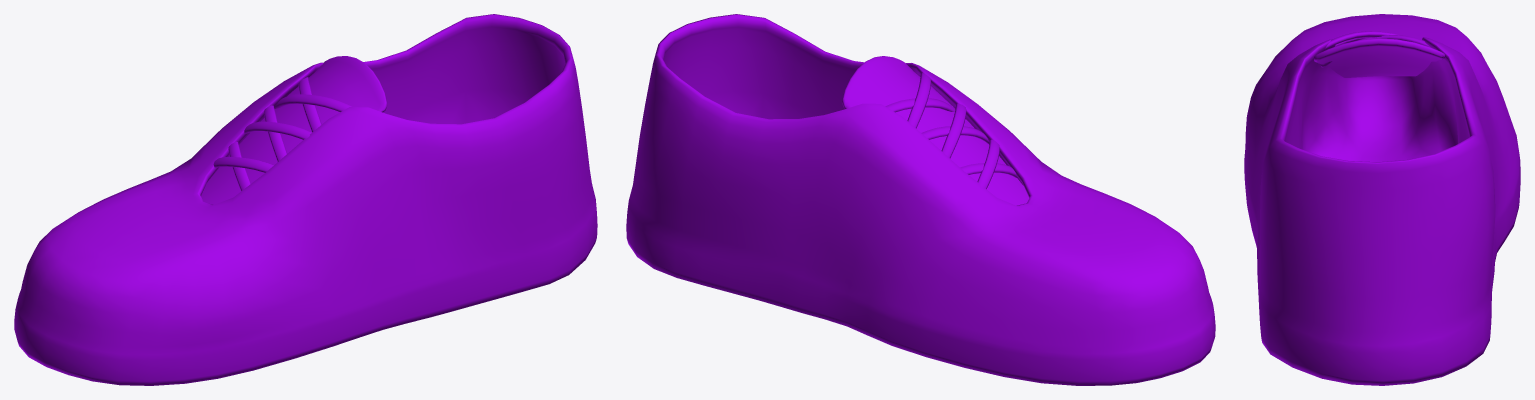
File: Shoes_Left.fbx
3 views of the same model, side by side, from view 1: azimuth 30°, elevation 25°; view 2: azimuth 150°, elevation 25°; view 3: azimuth 270°, elevation 25° (orthographic). The views are drawn at different scales.
Parts seen in each view (by area): view 1: Shoes_Left; view 2: Shoes_Left; view 3: Shoes_Left.
Part boxes in pixels (x1,y1,x2,y2): Shoes_Left: (14, 14, 597, 385); Shoes_Left: (626, 14, 1215, 385); Shoes_Left: (1244, 14, 1520, 385).
Bounding box in the file's own units: 179 × 68.58 × 70.46.
